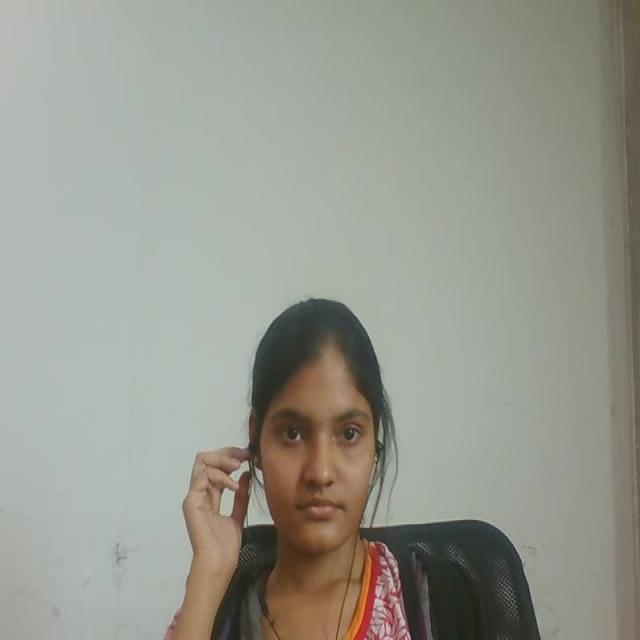Engaged: (219, 247, 417, 578)
